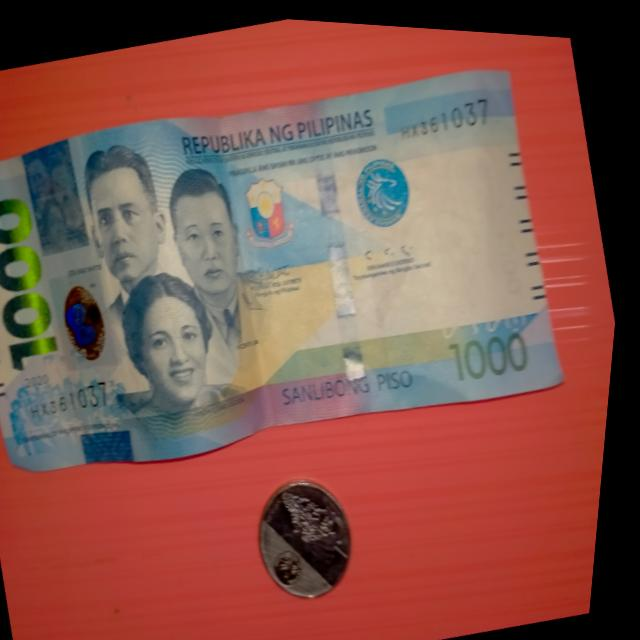concealed_value: (16, 132, 101, 255)
optically_variable_device: (46, 258, 133, 370)
